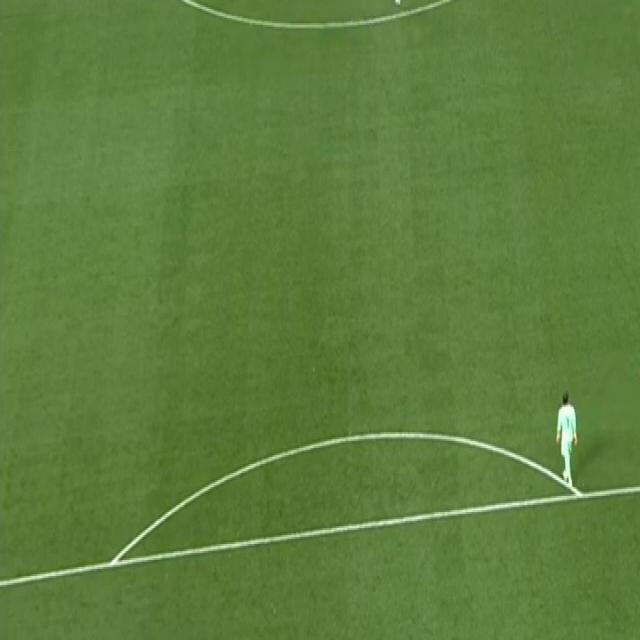player-white: (554, 388, 580, 496), (388, 0, 414, 9)
